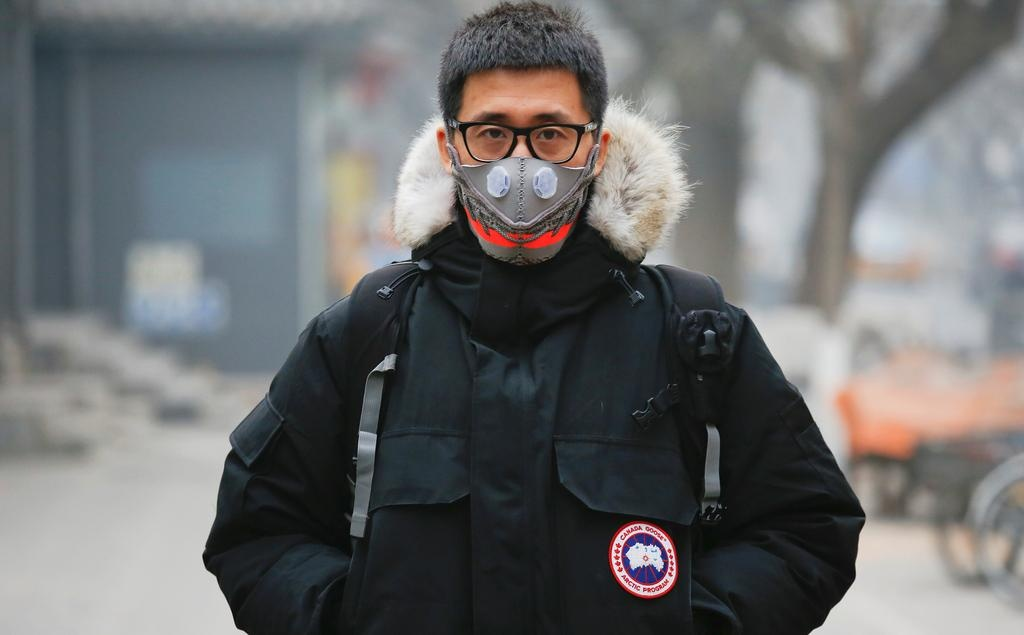Mask: (442, 101, 605, 265)
